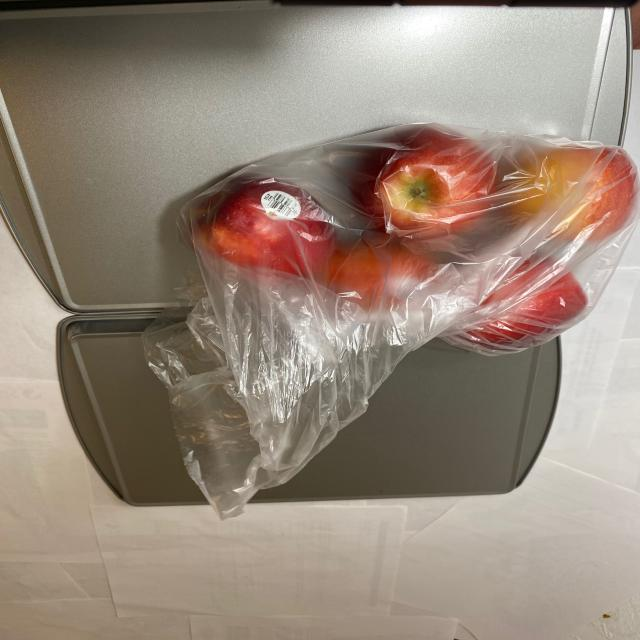apple: (177, 124, 635, 366)
